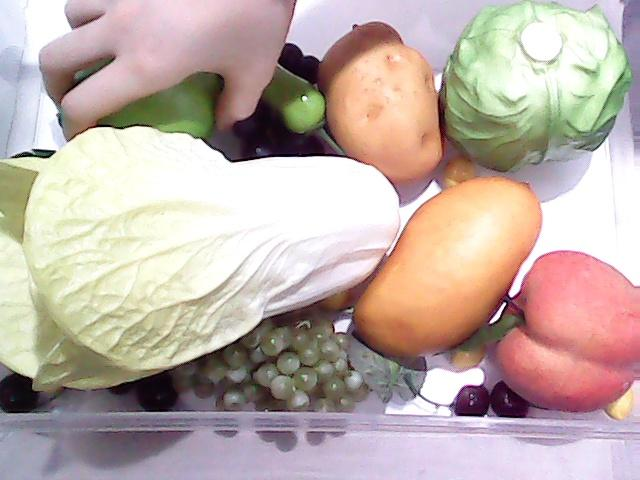apple: (78, 34, 222, 150)
cabbage: (407, 1, 631, 184)
grape: (138, 314, 390, 414), (224, 41, 324, 163)
mango: (348, 172, 542, 358)
napa cabbage: (0, 123, 392, 420)
peach: (490, 248, 640, 416)
pepper: (172, 40, 340, 136)
potato: (316, 22, 442, 184)
